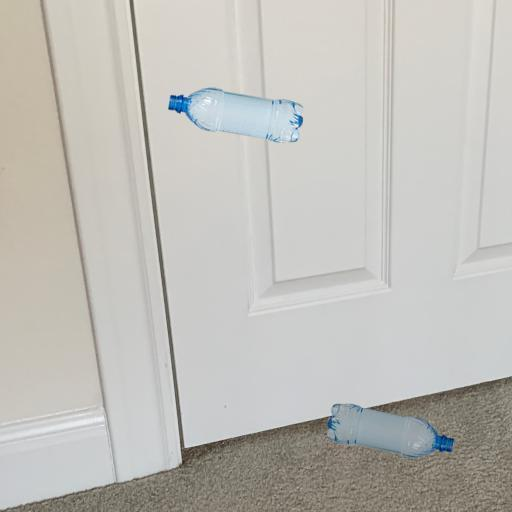bottle: (310, 379, 460, 470), (165, 64, 306, 141)
